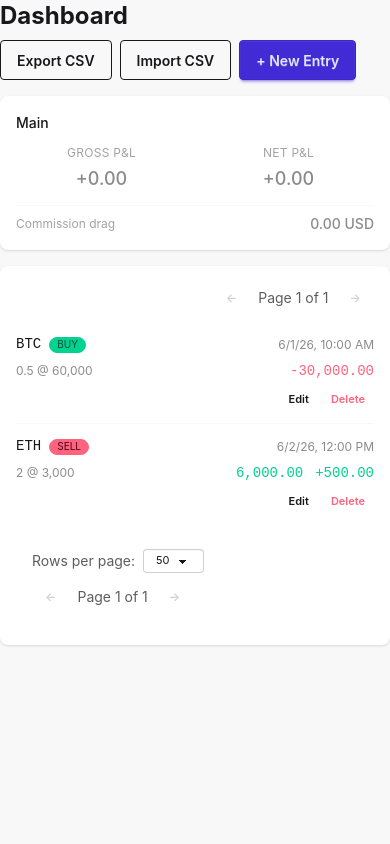
Scenario: DashboardPage — modal interactions › clicking a Delete button opens the confirm dialog
The width and height of the screenshot is (390, 844).
Click the button "Delete" below "-30,000.00" at (348, 399), box x1=322 y1=387 x2=374 y2=411
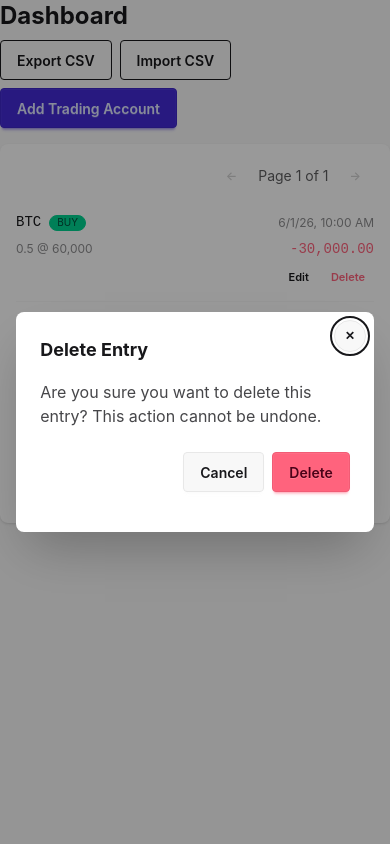
Now the text "Are you sure you want to delete this entry" is shown, box x1=40 y1=382 x2=322 y2=426
